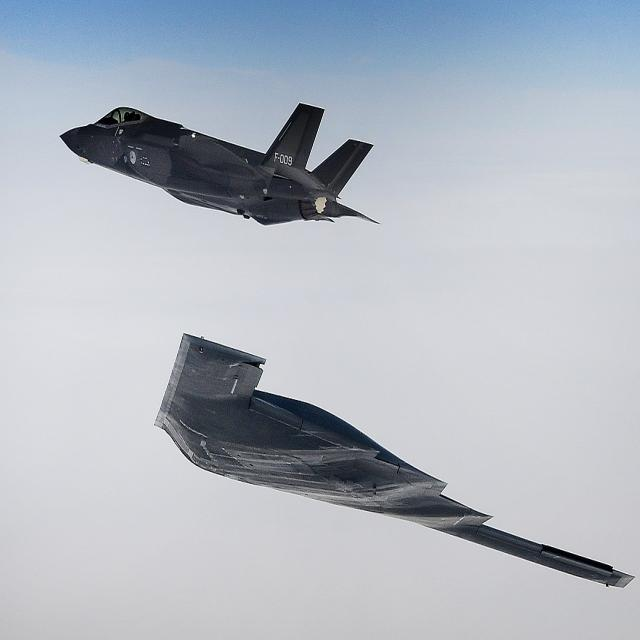MIL_Plane: (153, 397, 635, 523), (59, 101, 381, 226)
